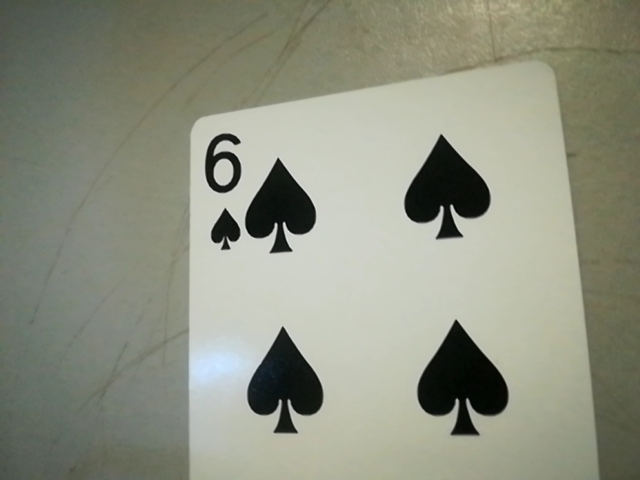ht 6: (192, 126, 251, 257)
